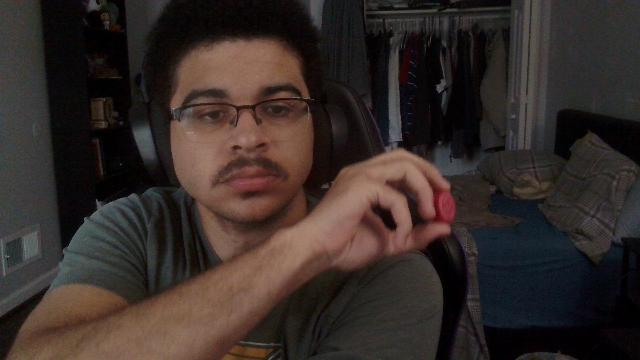cap: (434, 190, 454, 222)
